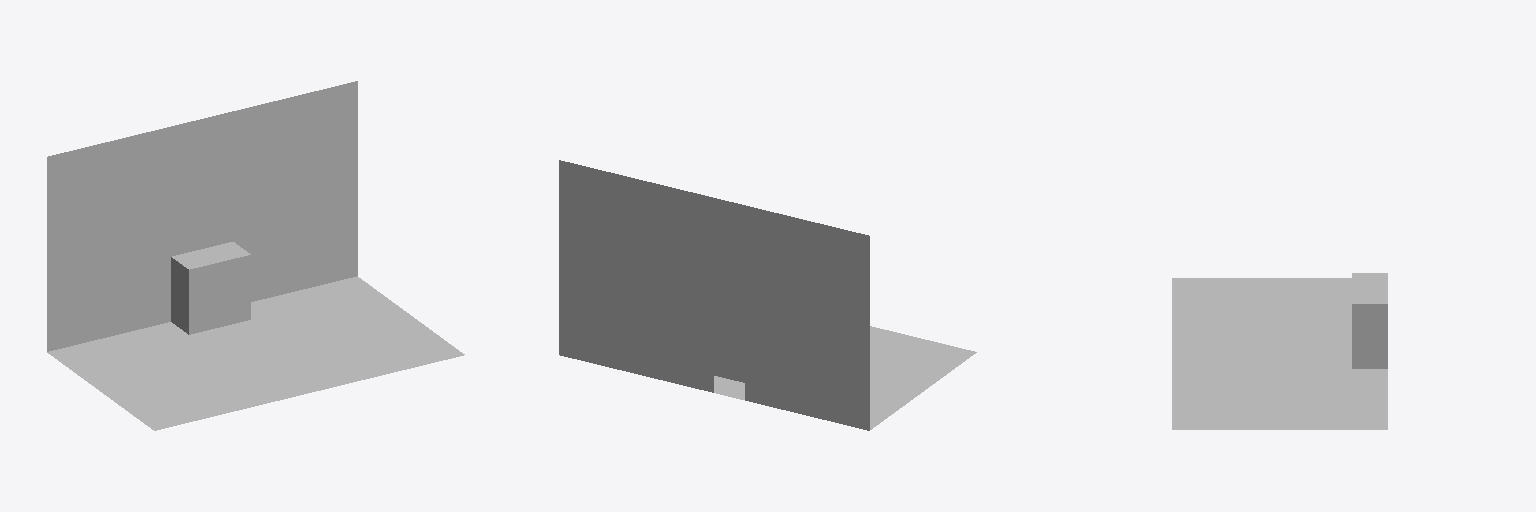
File: TestStove.obj
The picture shows the model from 3 angles: view 1: azimuth 30°, elevation 25°; view 2: azimuth 150°, elevation 25°; view 3: azimuth 270°, elevation 25°; orthographic projection.
Visible parts, largest first — view 1: Default; view 2: Default; view 3: Default.
Boxes of the visible parts, x1,y1,x2,y2 form: Default: [47, 81, 464, 430]; Default: [559, 160, 976, 430]; Default: [1172, 273, 1387, 429].
Size of the model in its own units: 10 by 6 by 6.